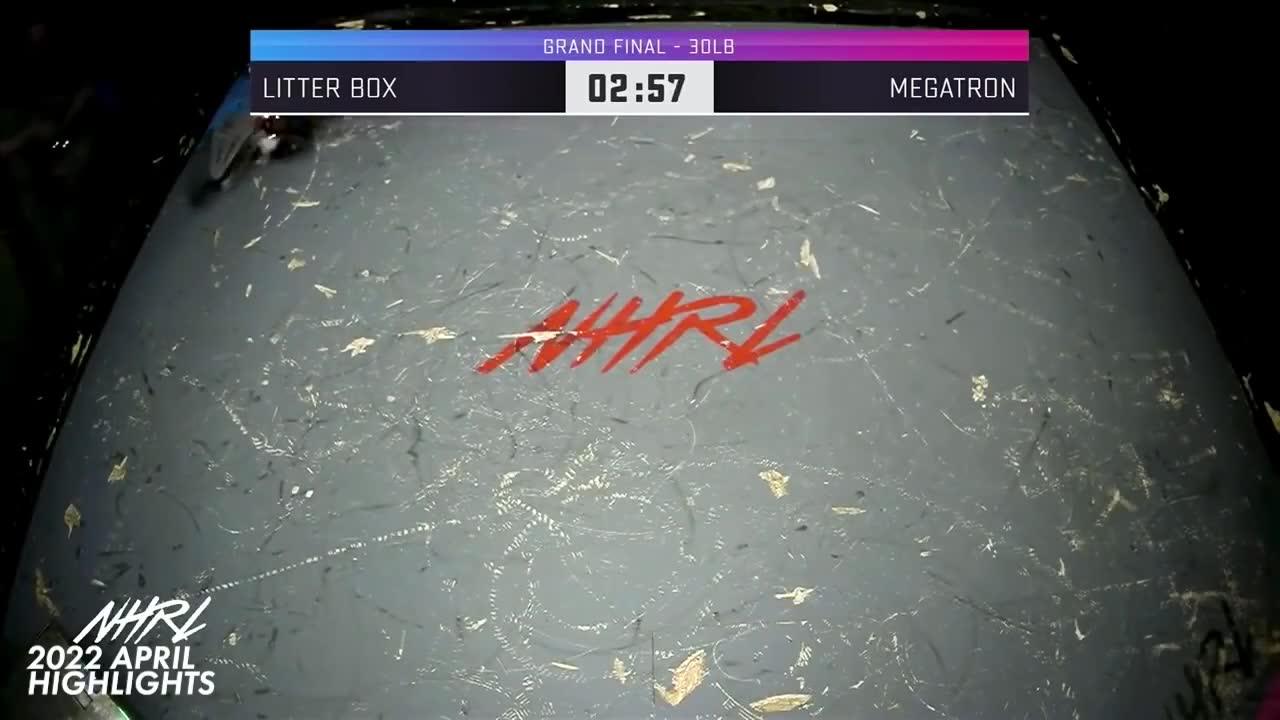combatbot: (201, 114, 262, 194)
